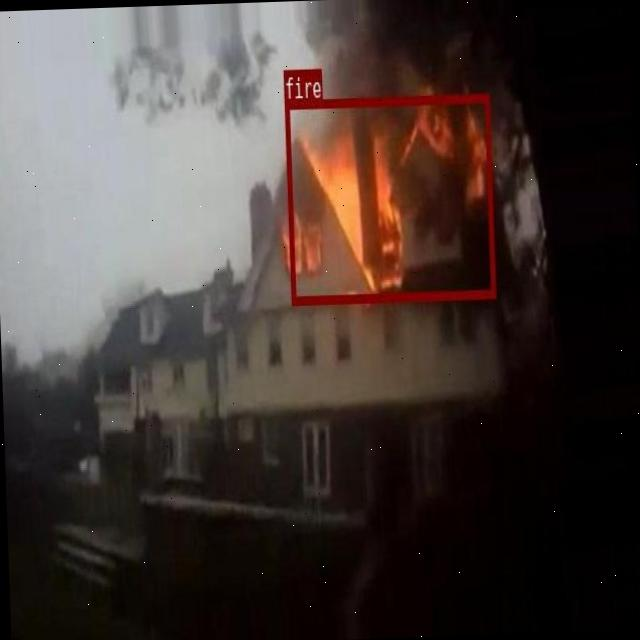fire: (284, 93, 494, 303)
